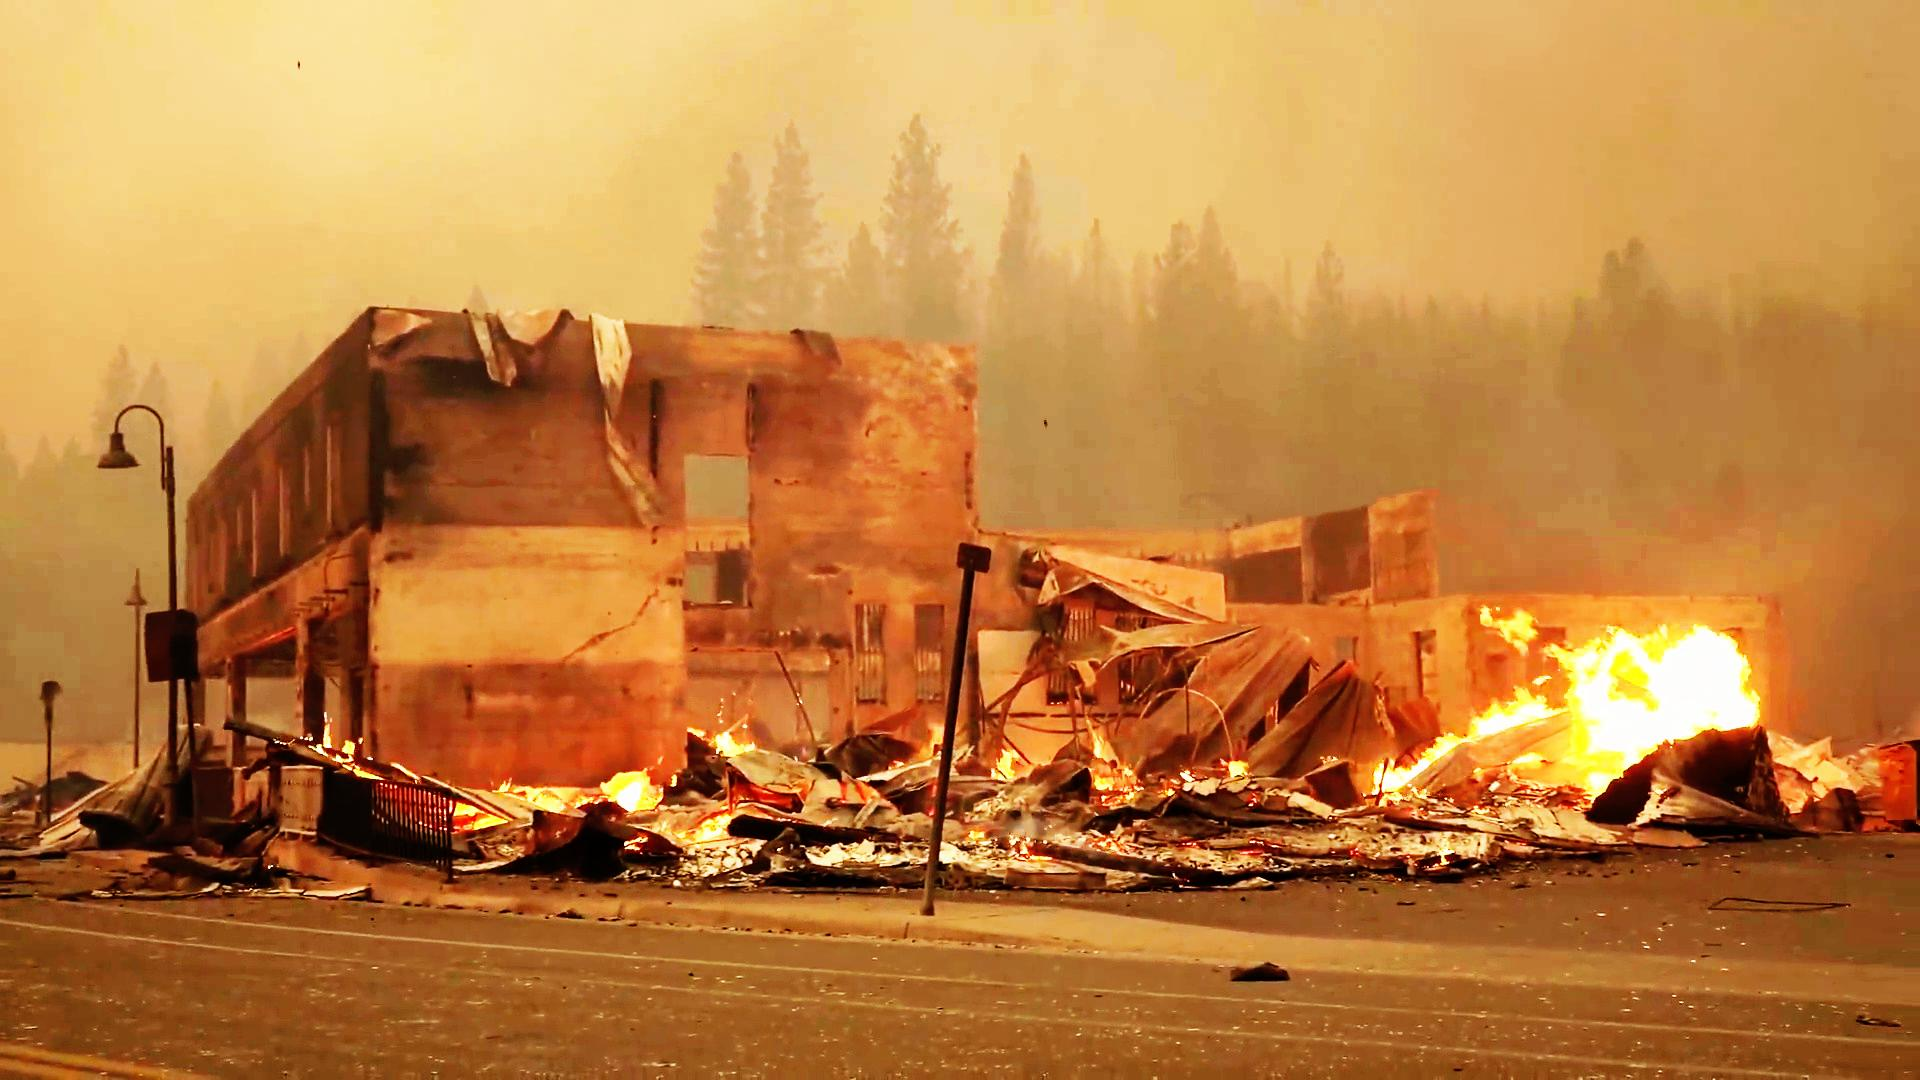fire: (1493, 555, 1801, 761)
